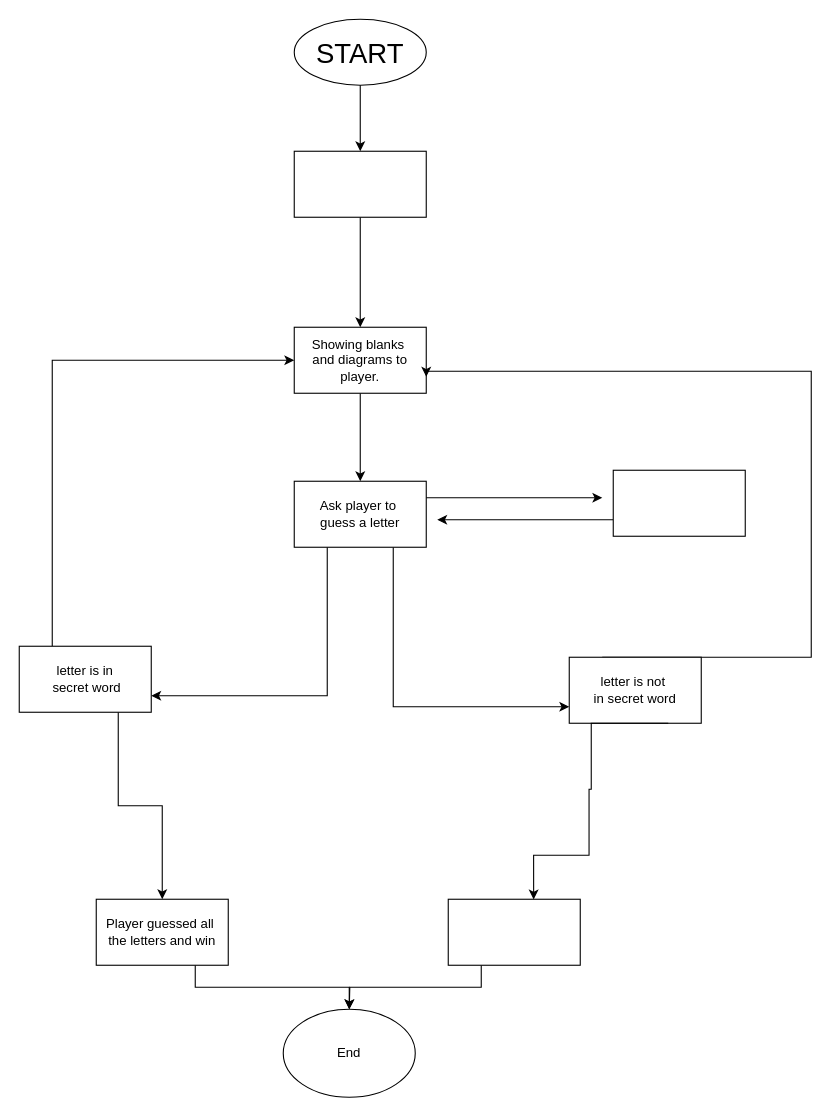
Some shapes in this 839 by 1117 pixel diagram are drawn without their labels. The shapes that lost their labels are listed below. From the top down, each one's centre as x and y in pixels, then its label:
(x=359, y=183): Secret Word generate
(x=678, y=502): Player already guessed the letter
(x=513, y=931): Player ran out of guesses and lost
